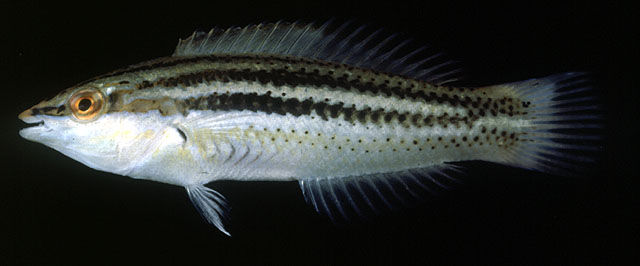fish: (17, 19, 599, 237)
